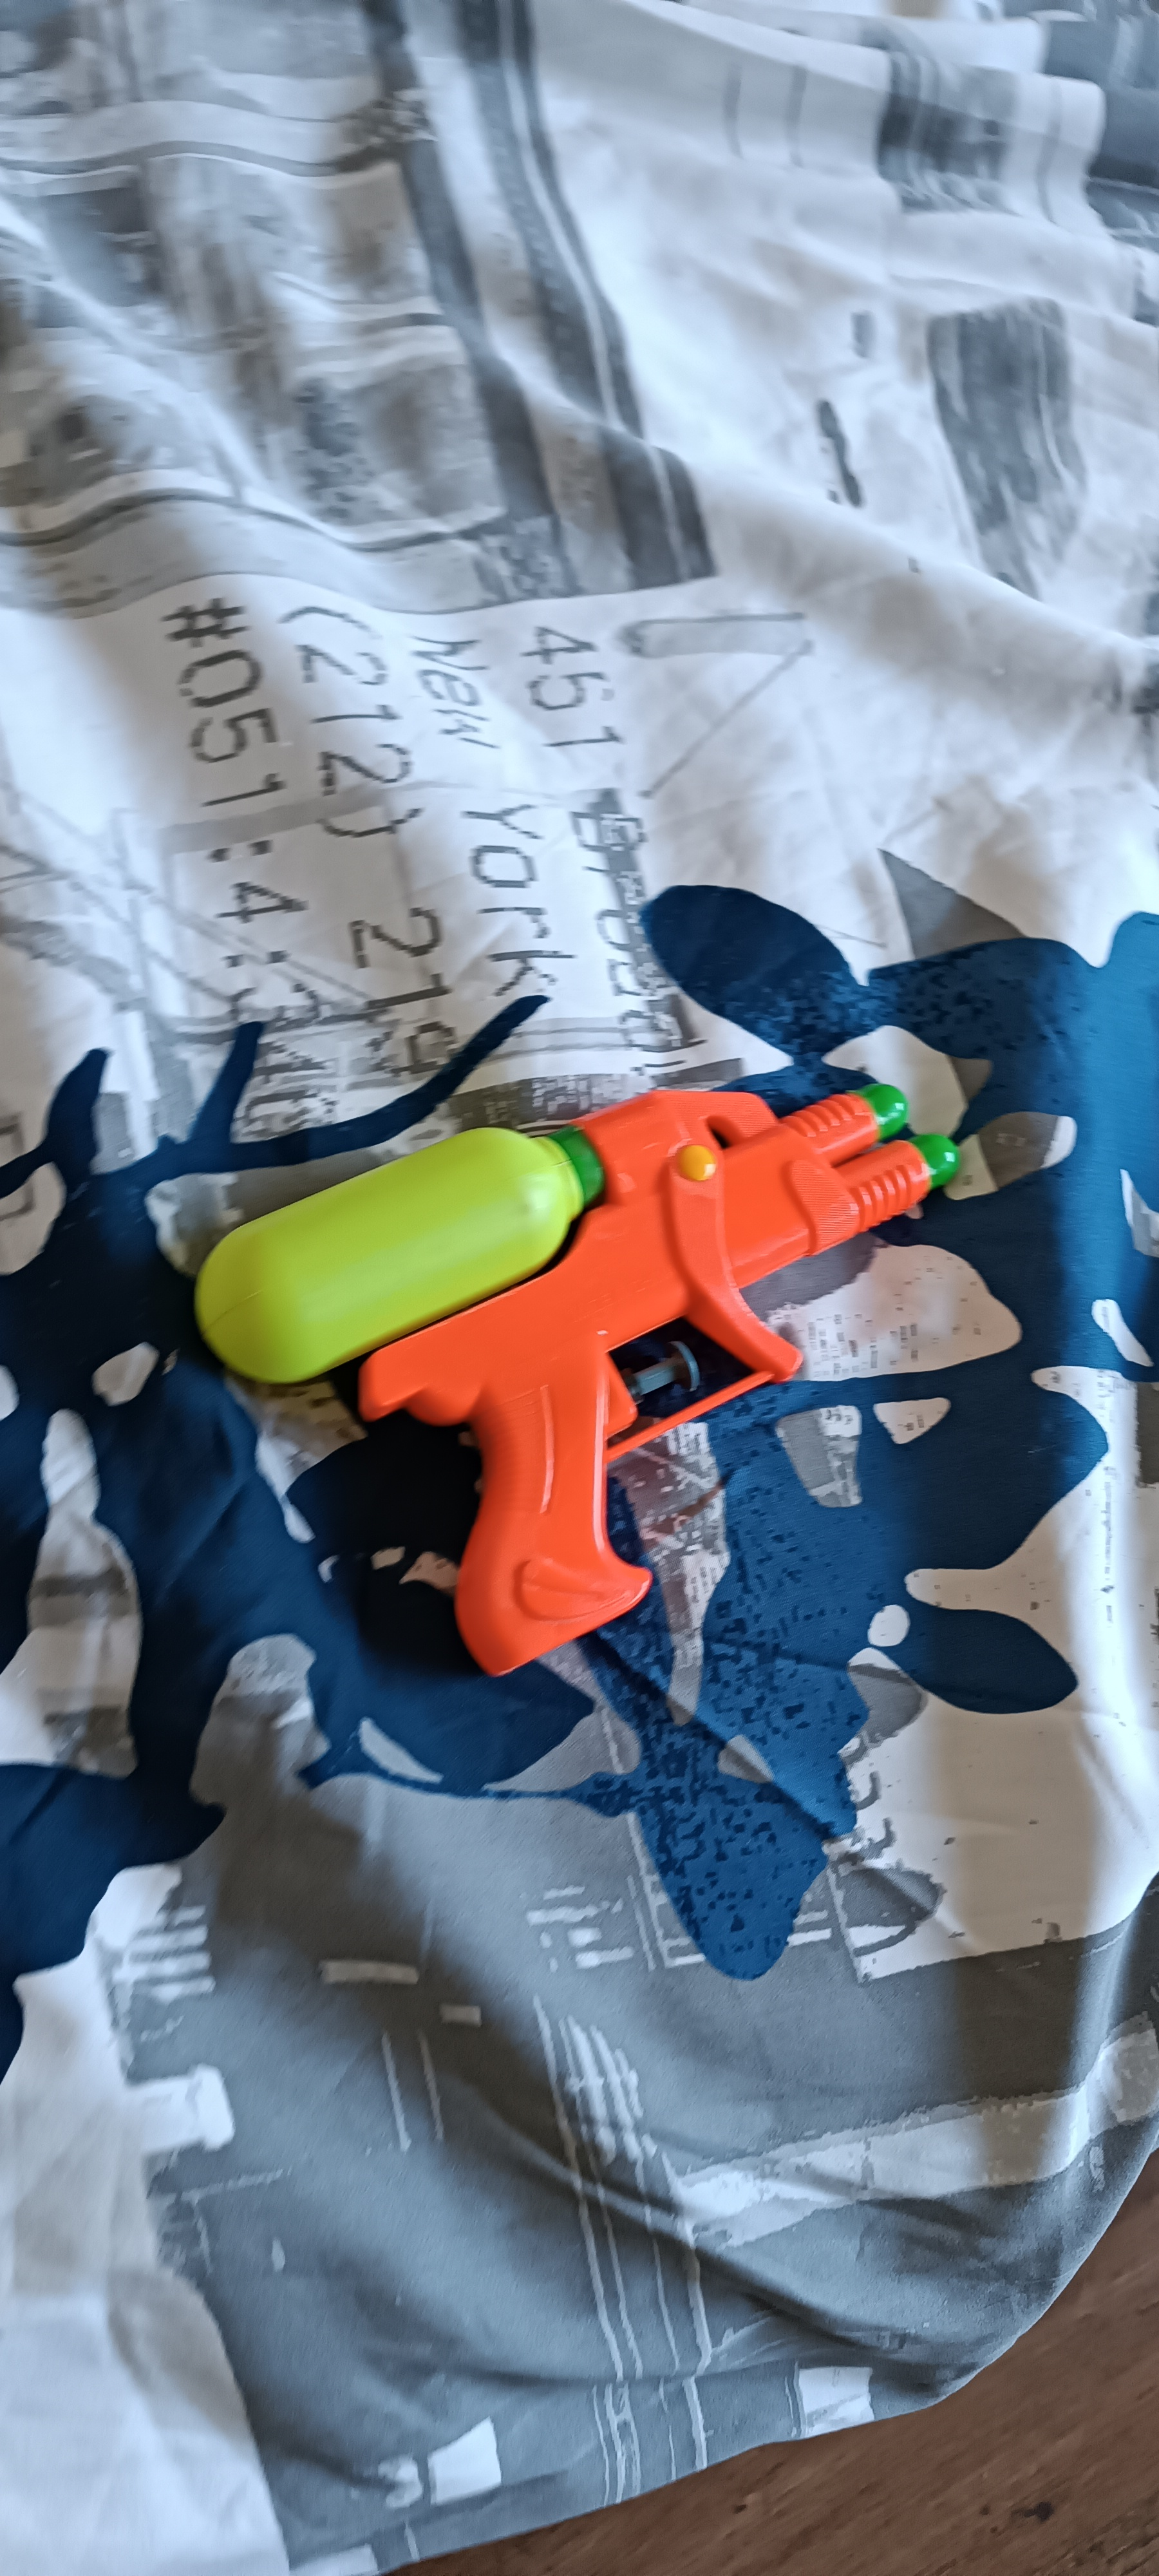Water Gun: (190, 1083, 959, 1676)
